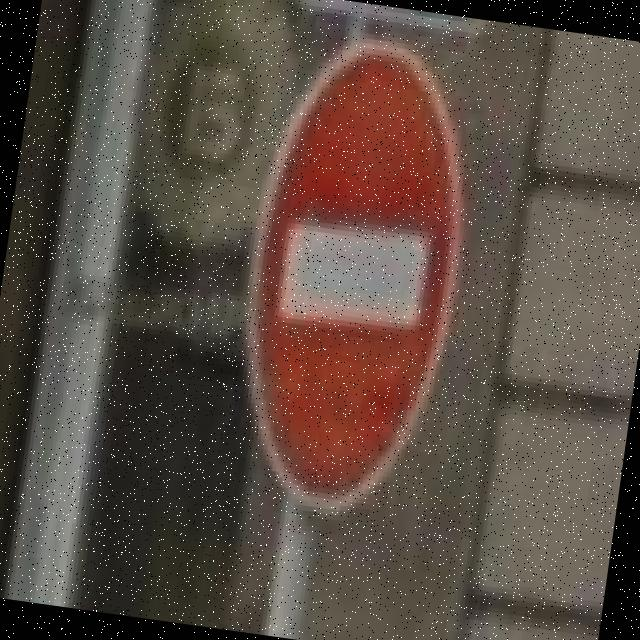Zakaz wjazdu: (218, 27, 488, 527)
